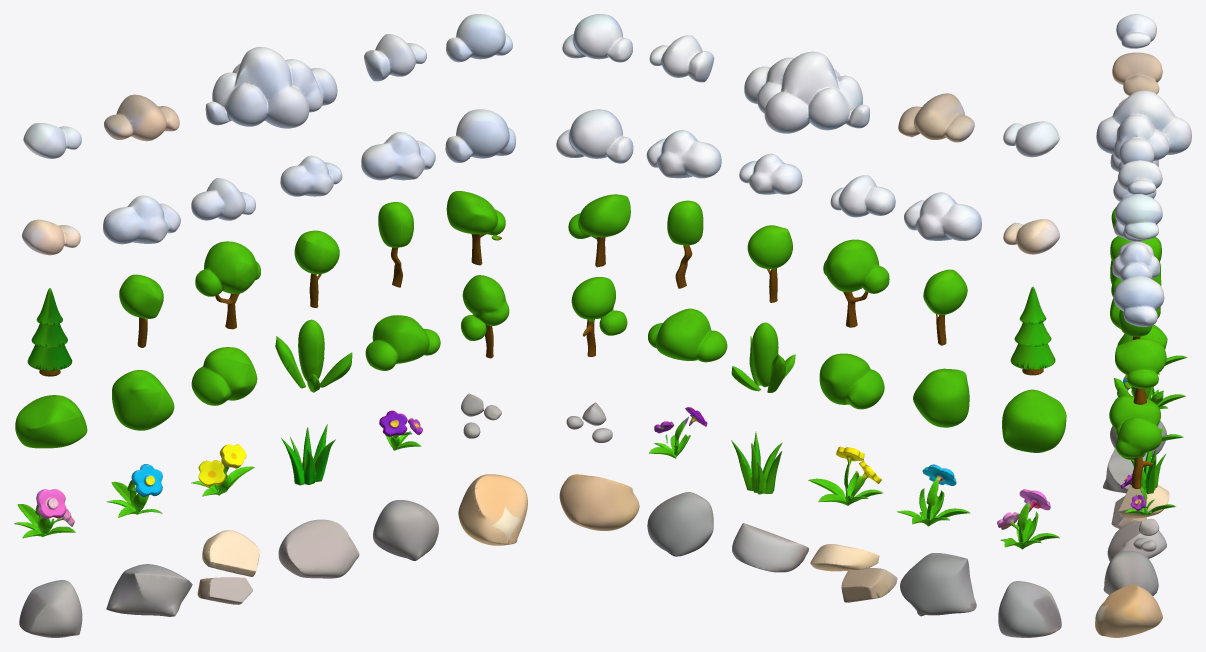
Rendered from 花草等.glb.
The picture shows the model from 3 angles, left to right: view 1: azimuth 30°, elevation 25°; view 2: azimuth 150°, elevation 25°; view 3: azimuth 270°, elevation 25°; orthographic projection. The views are drawn at different scales.
Bounding box in the file's own units: 1.84 × 1.9 × 0.365.
1 material, 1 textured.
